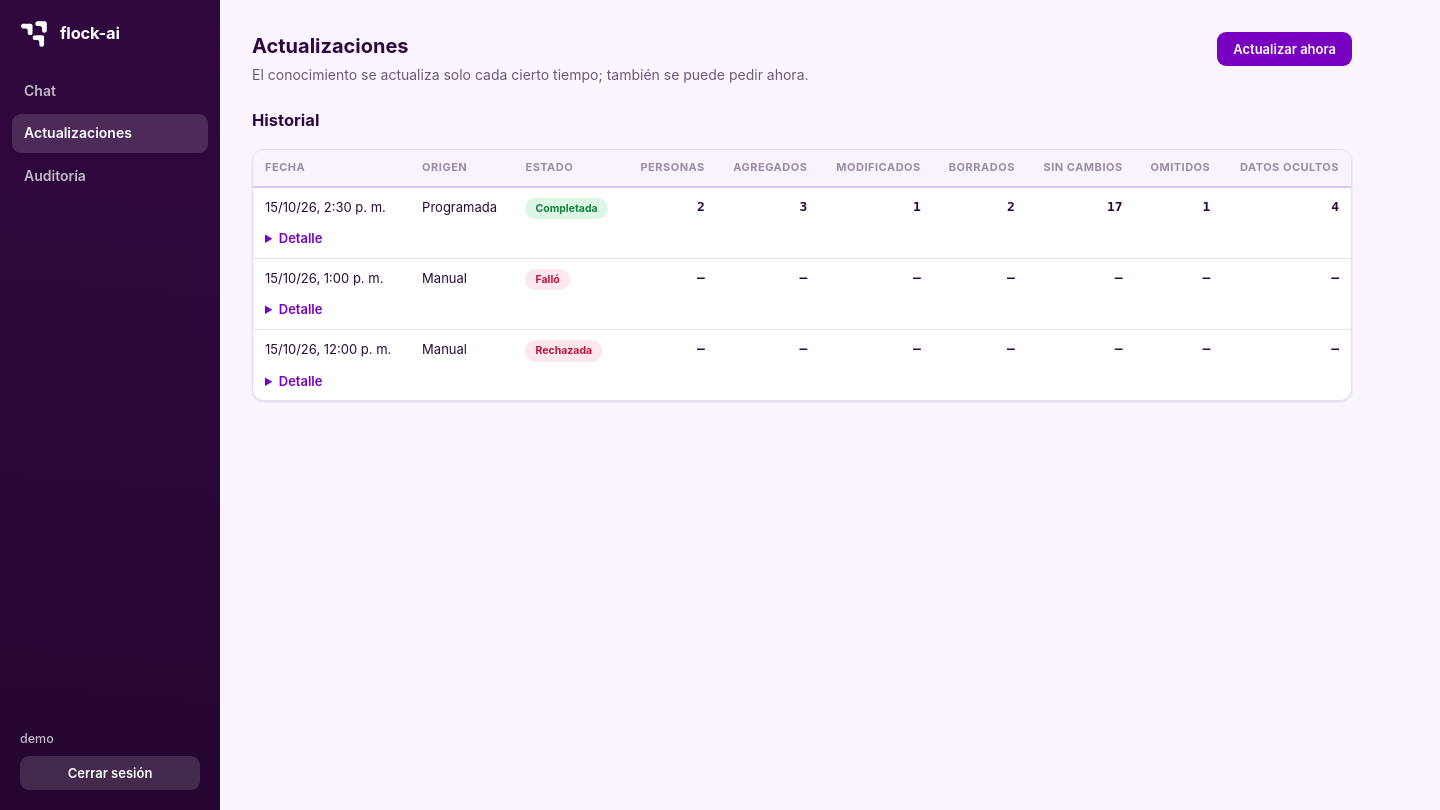
Test: updates screen › shows the history with the summary of each update
expect the text "Completada" is shown: met, box x1=526 y1=198 x2=608 y2=219
expect the text "Programada" is shown: met, box x1=410 y1=187 x2=513 y2=229
Click the heading "Detalle" below "15/10/26, 2:30 p. m." at {"x": 301, "y": 238}, box x1=279 y1=230 x2=322 y2=246
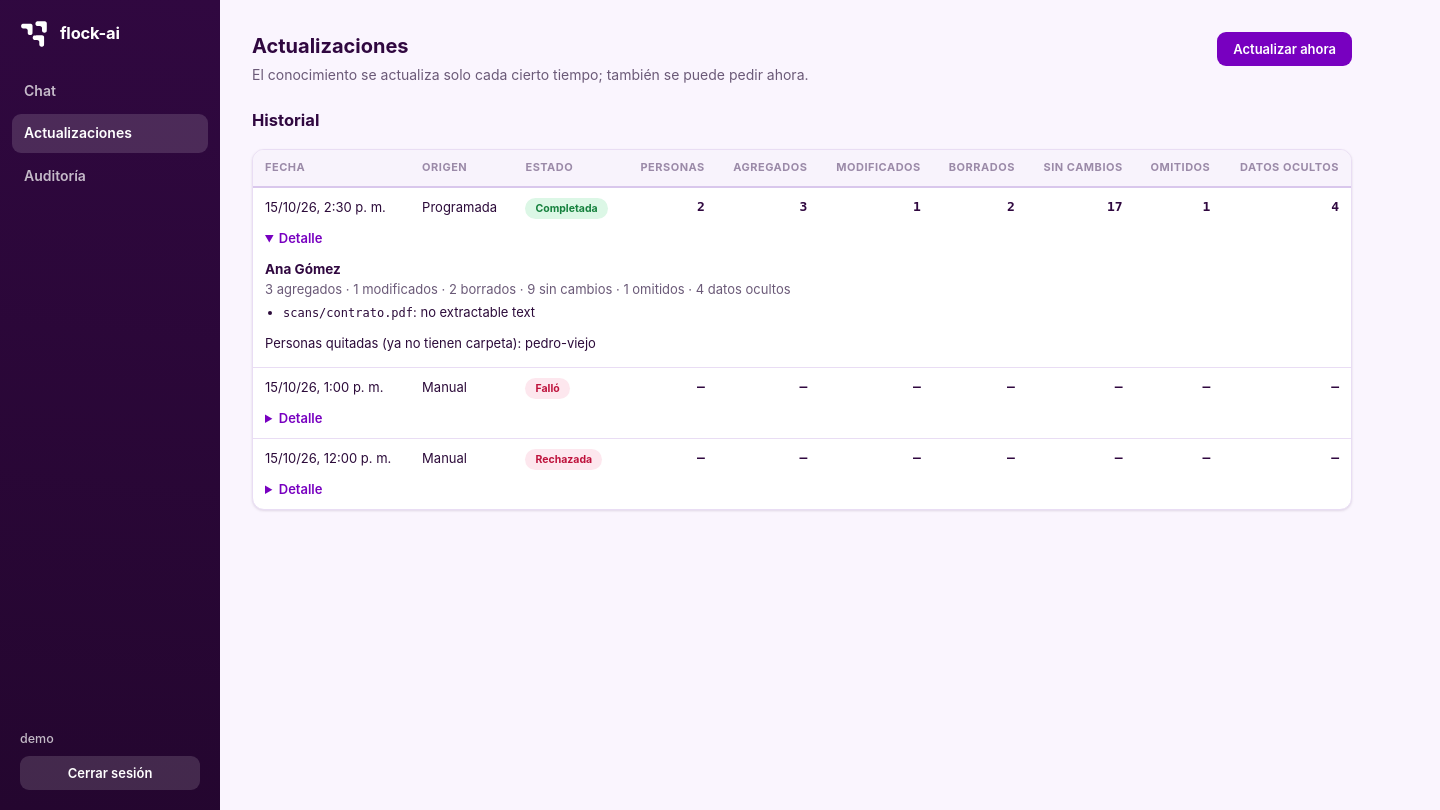
expect the heading "Ana Gómez" is shown: met, box x1=265 y1=261 x2=341 y2=277
expect the text "9 sin cambios" is shown: met, box x1=265 y1=281 x2=790 y2=297
expect the list item reads "scans/contrato.pdf: no extractable text": met, box x1=283 y1=304 x2=535 y2=320
